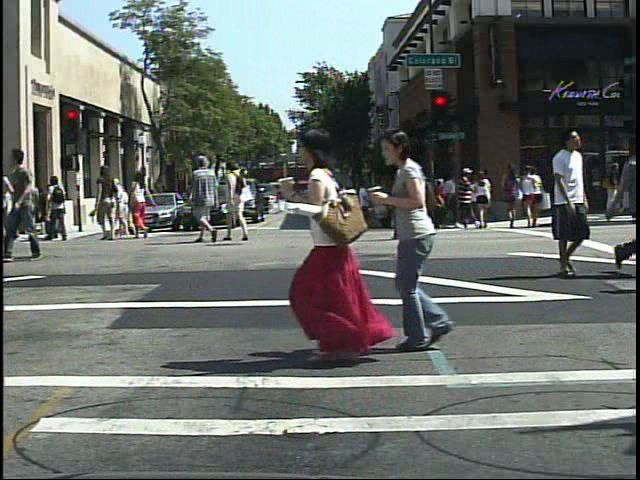person: (283, 126, 389, 365), (384, 126, 477, 358), (534, 125, 602, 279), (9, 143, 48, 263), (393, 146, 433, 246), (187, 151, 225, 245), (221, 154, 250, 246), (94, 165, 125, 243), (18, 169, 45, 246), (127, 167, 153, 241), (46, 171, 69, 246), (474, 167, 495, 228), (457, 162, 475, 230)
